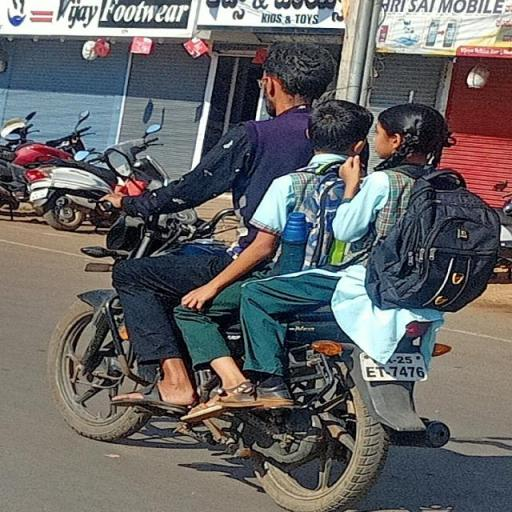tripple riding: (92, 34, 502, 304)
